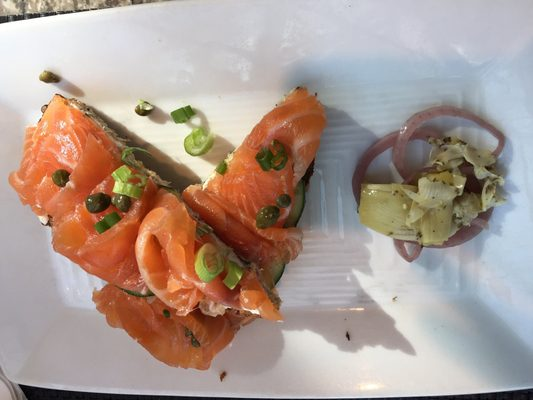burger: (9, 92, 311, 372)
